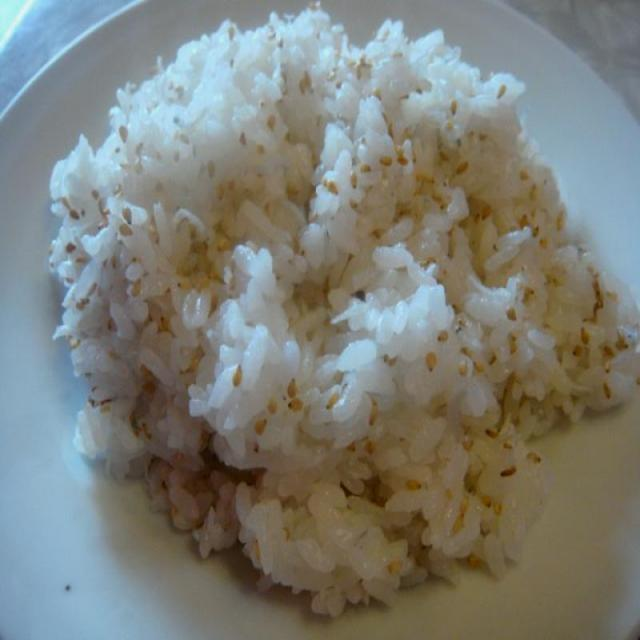rice: (51, 4, 639, 625)
